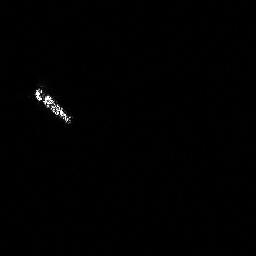ship: (30, 83, 75, 127)
